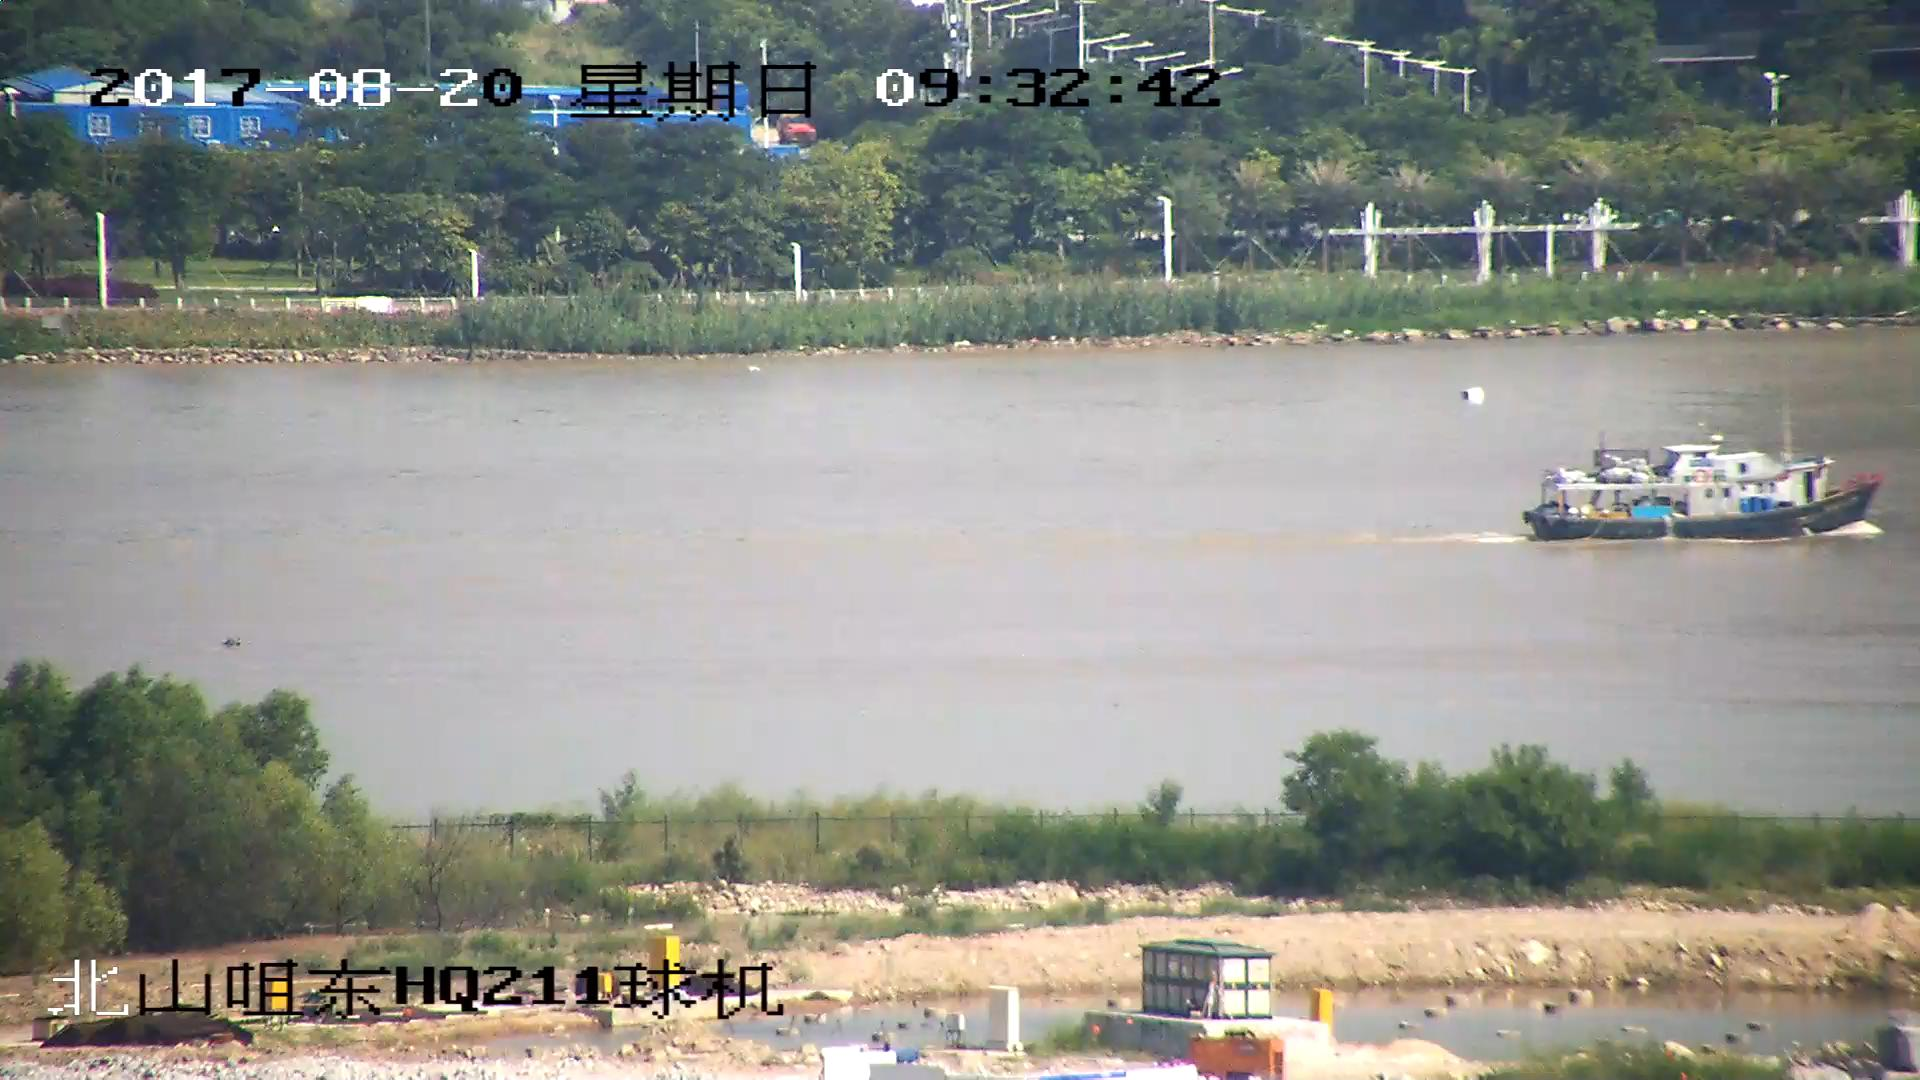fishing boat: (1523, 435, 1882, 545)
